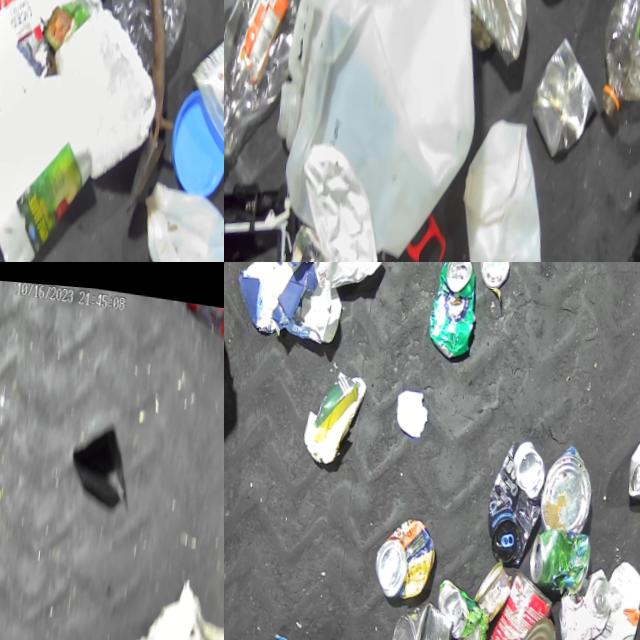can: (527, 25, 606, 160), (408, 0, 541, 67), (485, 430, 551, 562), (481, 561, 558, 640), (374, 510, 441, 600), (541, 436, 599, 529), (427, 262, 481, 356), (557, 556, 615, 640), (528, 518, 592, 590), (435, 573, 494, 640), (386, 593, 458, 640), (474, 554, 516, 619), (0, 0, 49, 50), (501, 607, 560, 640), (627, 415, 640, 495), (479, 262, 513, 285)
milk_jug: (264, 0, 497, 262), (450, 103, 559, 262), (132, 169, 224, 262)
plastic_bottle: (224, 0, 308, 183), (596, 0, 640, 123)
